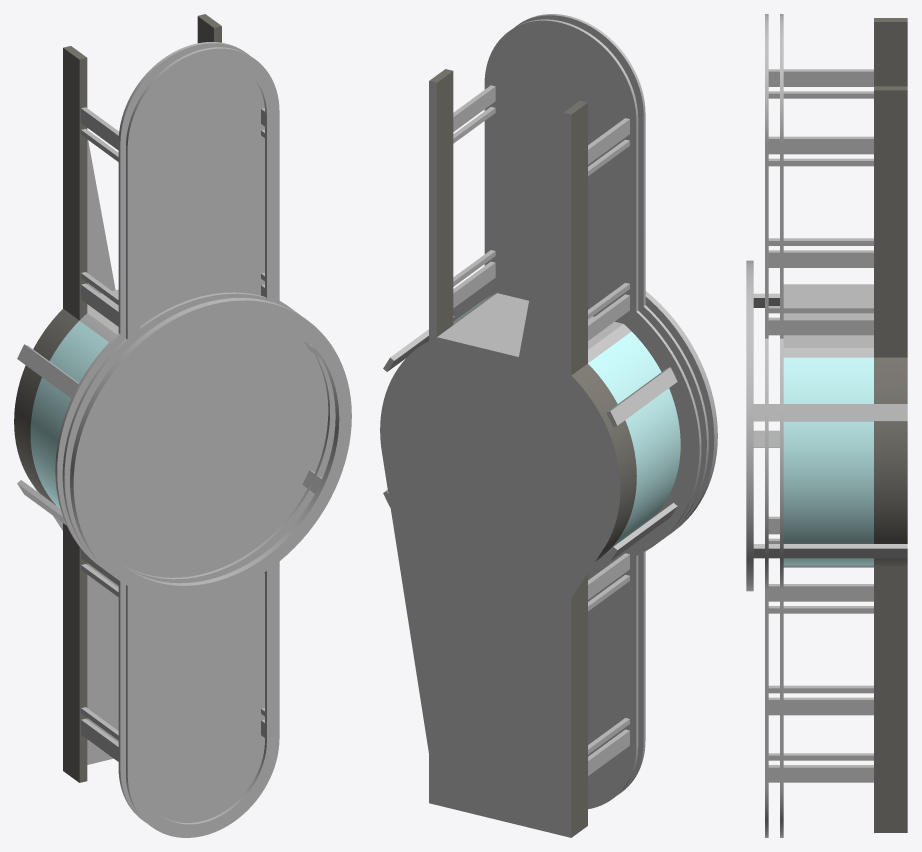
File: park.obj
The picture shows the model from 3 angles, left to right: view 1: azimuth 30°, elevation 25°; view 2: azimuth 150°, elevation 25°; view 3: azimuth 270°, elevation 25°; orthographic projection. The views are drawn at different scales.
Parts seen in each view (by area): view 1: Mesh1 ____ Model; view 2: Mesh1 ____ Model; view 3: Mesh1 ____ Model.
Boxes of the visible parts, bbox=[...] form: Mesh1 ____ Model: bbox=[14, 14, 351, 837]; Mesh1 ____ Model: bbox=[380, 14, 717, 837]; Mesh1 ____ Model: bbox=[746, 14, 907, 837].
Bounding box in the file's own units: 8800 × 23724 × 4300.
